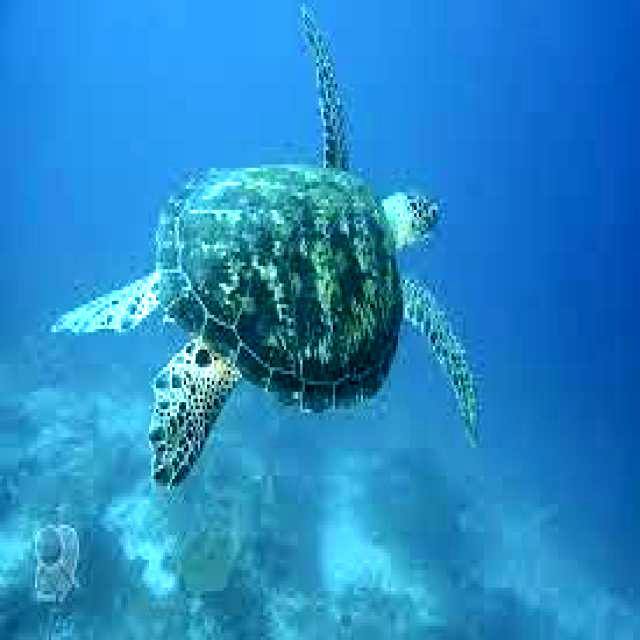Sea turtle: (53, 0, 490, 496)
